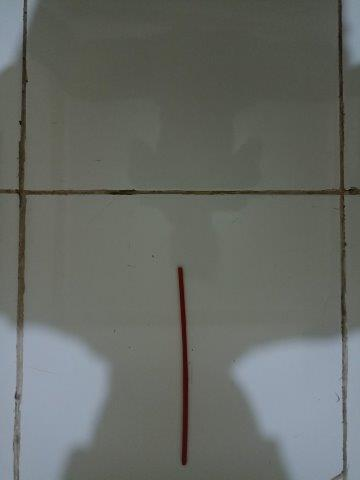sedotan: (177, 265, 189, 465)
